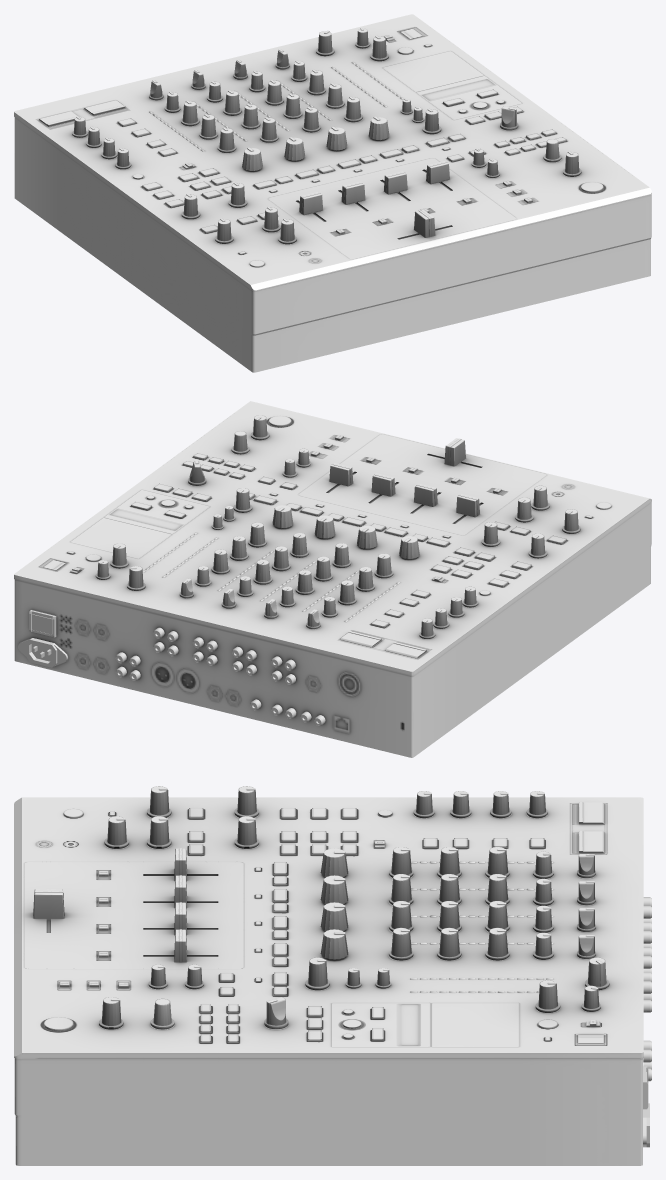
File: Mixer.fbx
3 views of the same model, one above another, from view 1: azimuth 30°, elevation 25°; view 2: azimuth 150°, elevation 25°; view 3: azimuth 270°, elevation 25° (orthographic). The views are drawn at different scales.
Parts seen in each view (by area): view 1: MainObj.002, Cube.001; view 2: MainObj.002, Cube.001; view 3: MainObj.002, Cube.001.
Boxes of the visible parts, x1,y1,x2,y2 form: MainObj.002: (14,14,651,372); Cube.001: (149,62,403,151); MainObj.002: (14,401,651,757); Cube.001: (142,532,400,622); MainObj.002: (14,786,651,1165); Cube.001: (410,861,553,992).
Size of the model in its own units: 39.15 by 10.26 by 41.32.
